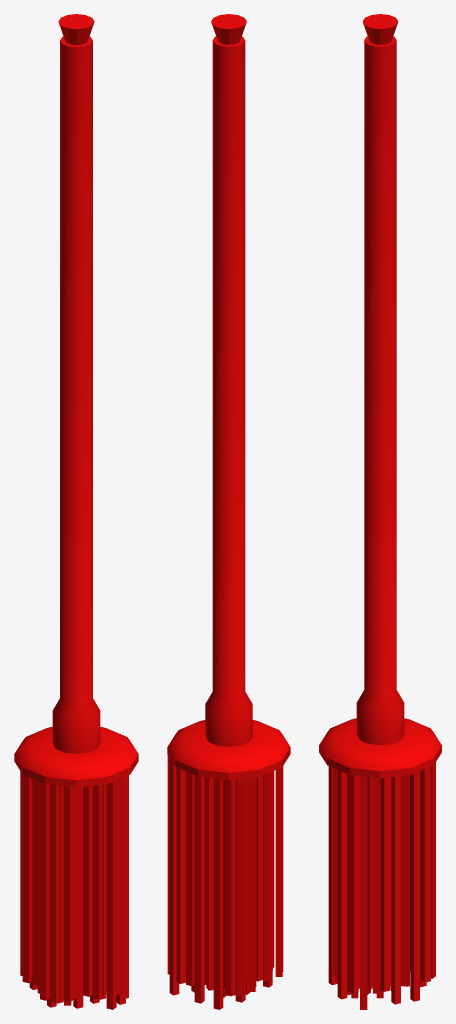
Rendered from Serpillere_Model.FBX.
The picture shows the model from 3 angles, left to right: view 1: azimuth 90°, elevation 25°; view 2: azimuth 210°, elevation 25°; view 3: azimuth 270°, elevation 25°; orthographic projection.
Parts seen in each view (by area): view 1: Serpillere_Model; view 2: Serpillere_Model; view 3: Serpillere_Model.
Part boxes in pixels (<box>): Serpillere_Model: <box>14,14,138,1009</box>; Serpillere_Model: <box>167,14,290,1009</box>; Serpillere_Model: <box>319,14,441,1009</box>.
Bounding box in the file's own units: 17.16 × 149 × 17.16.
